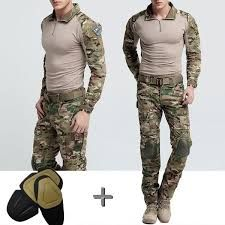uniform: (138, 70, 185, 207)
